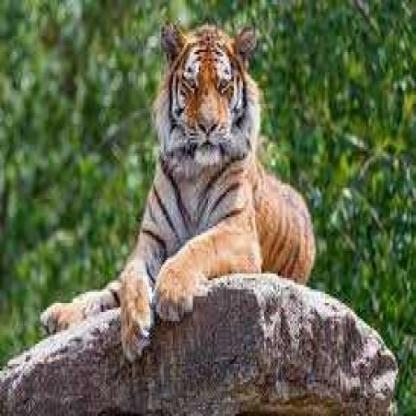Tiger: (100, 13, 334, 360)
